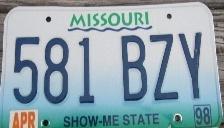1: (75, 36, 100, 105)
5: (12, 35, 42, 105)
8: (41, 35, 72, 105)
B: (120, 33, 149, 102)
X: (176, 30, 209, 100)
Z: (148, 33, 181, 101)
